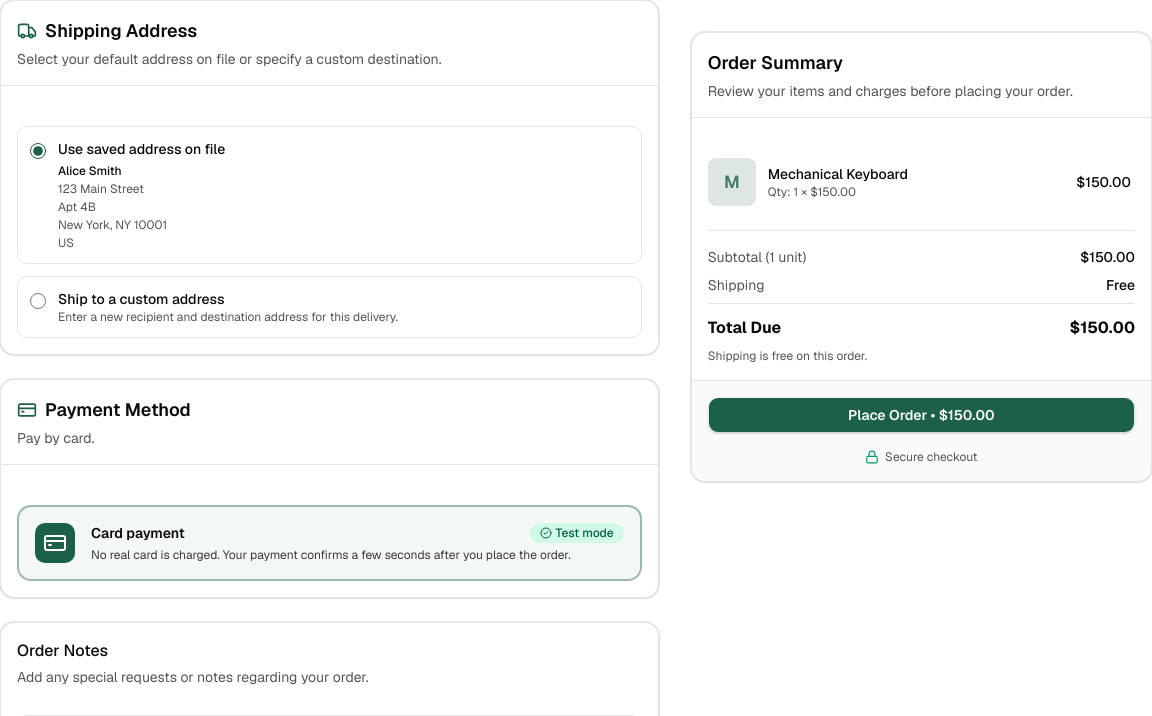
Test: CheckoutForm › surfaces 409 conflict error message
Step 1. Click the button "Place Order • $150.00" → (921, 415), box [708,397,1135,433]
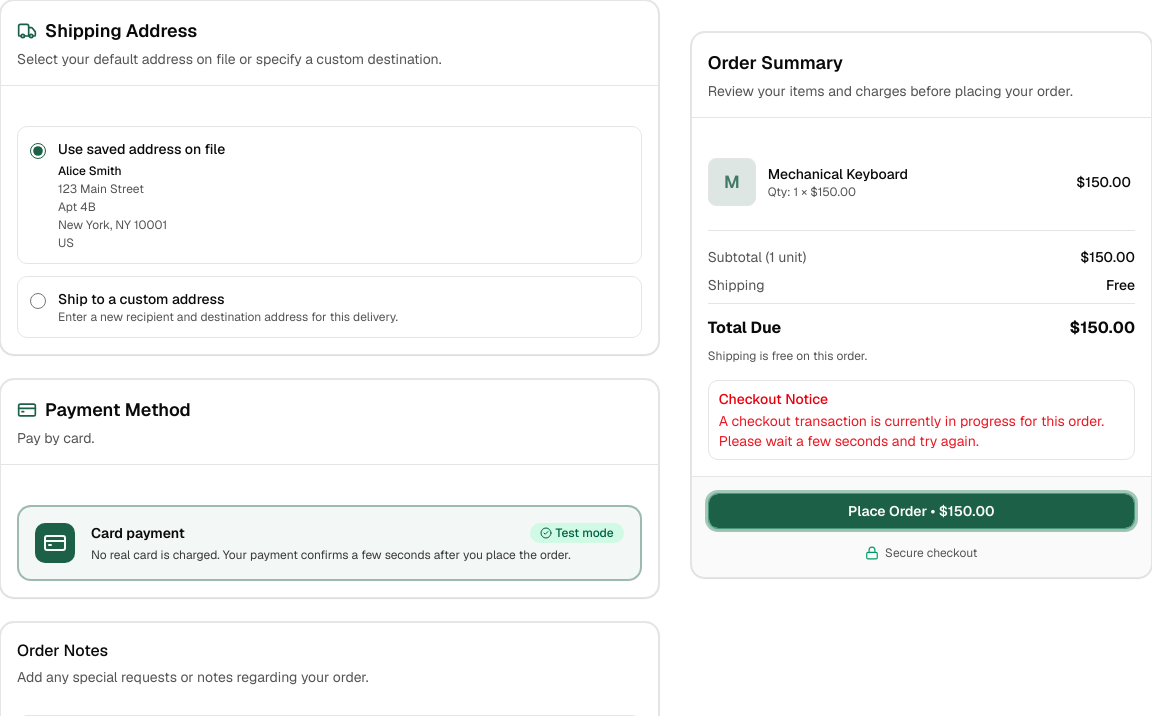
Check: the text "transaction is currently in progress" is shown, box [719,412,1104,450]
